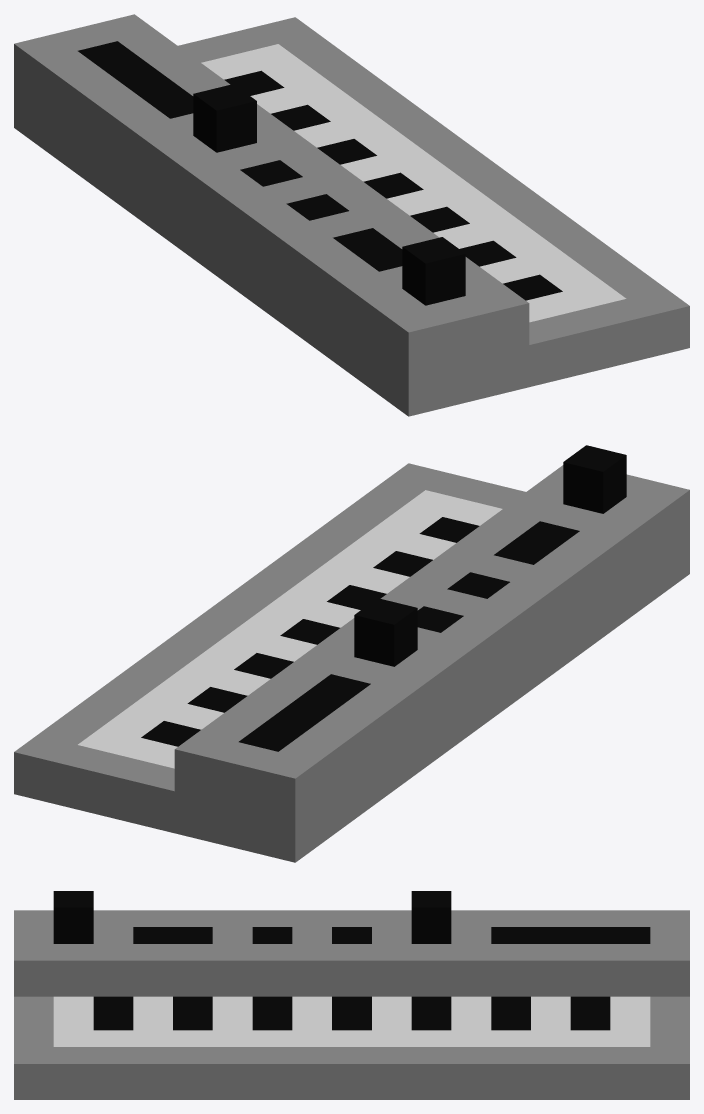
Rendered from Sintezator.obj.
3 renders of one model, top to bottom at view 1: azimuth 30°, elevation 25°; view 2: azimuth 150°, elevation 25°; view 3: azimuth 270°, elevation 25°, orthographic. The views are drawn at different scales.
Bounding box in the file's own units: 0.7 × 0.3 × 1.7.
1 material, 1 textured.
